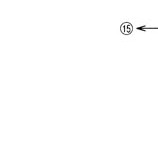enseble_chain: (135, 21, 158, 36), (120, 20, 134, 36)
